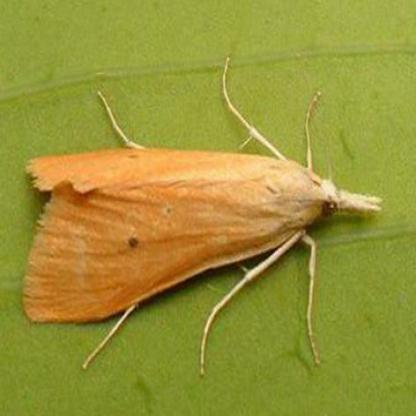stem-borer: (20, 112, 388, 340)
